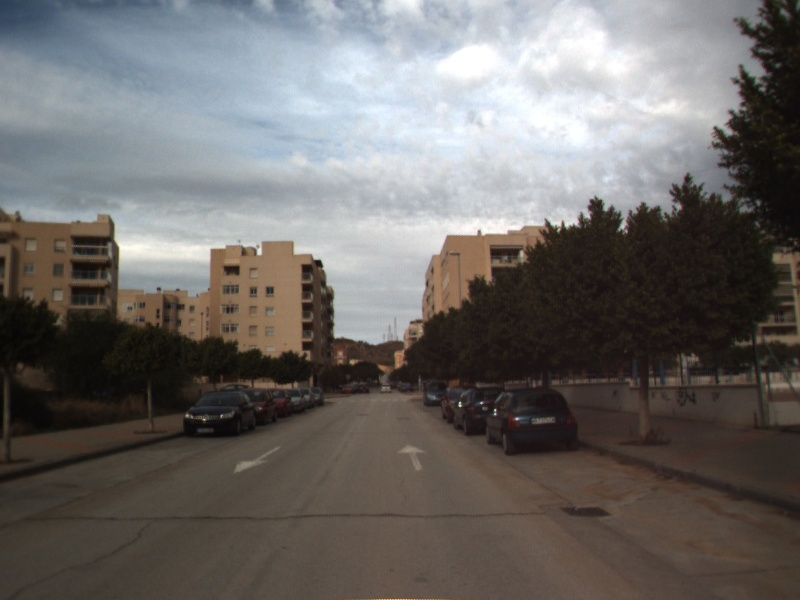STRAIGHT: (395, 442, 429, 472)
